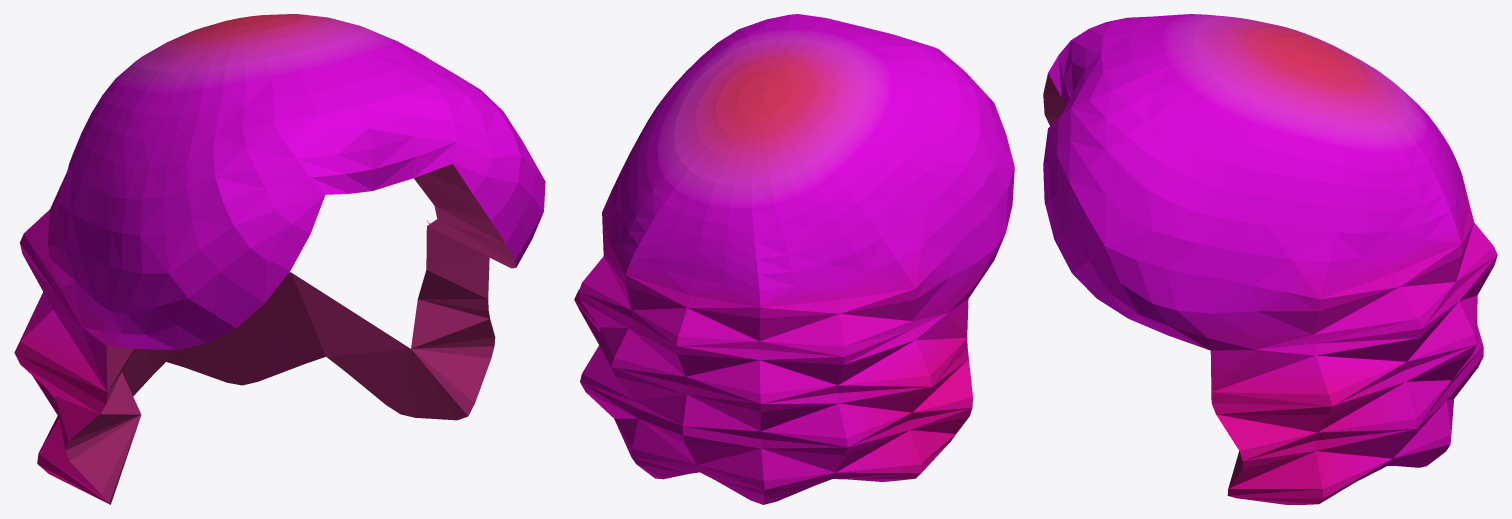
3 views of the same model, side by side, from view 1: azimuth 30°, elevation 25°; view 2: azimuth 150°, elevation 25°; view 3: azimuth 270°, elevation 25° (orthographic). The views are drawn at different scales.
Visible parts, largest first — view 1: shape; view 2: shape; view 3: shape.
Boxes of the visible parts, x1,y1,x2,y2 form: shape: (14,14,545,504); shape: (574,14,1014,504); shape: (1043,14,1497,504).
Size of the model in its own units: 66.67 by 66.14 by 68.01.
